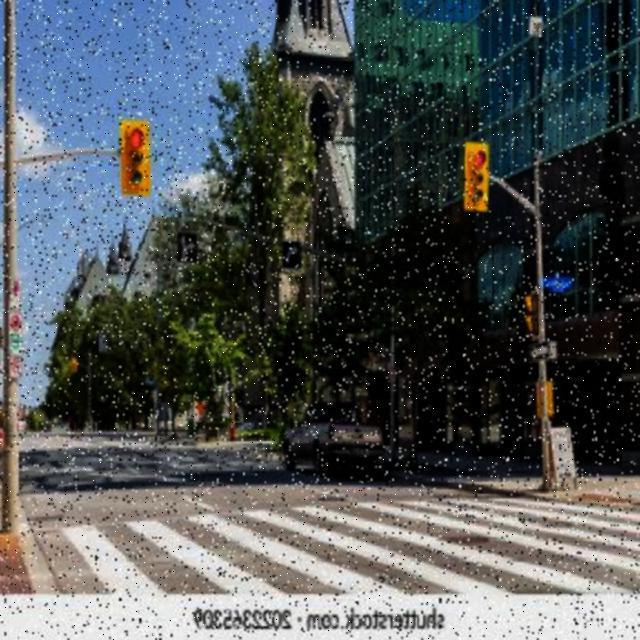Pedestrian crosswalk: (16, 492, 630, 600)
